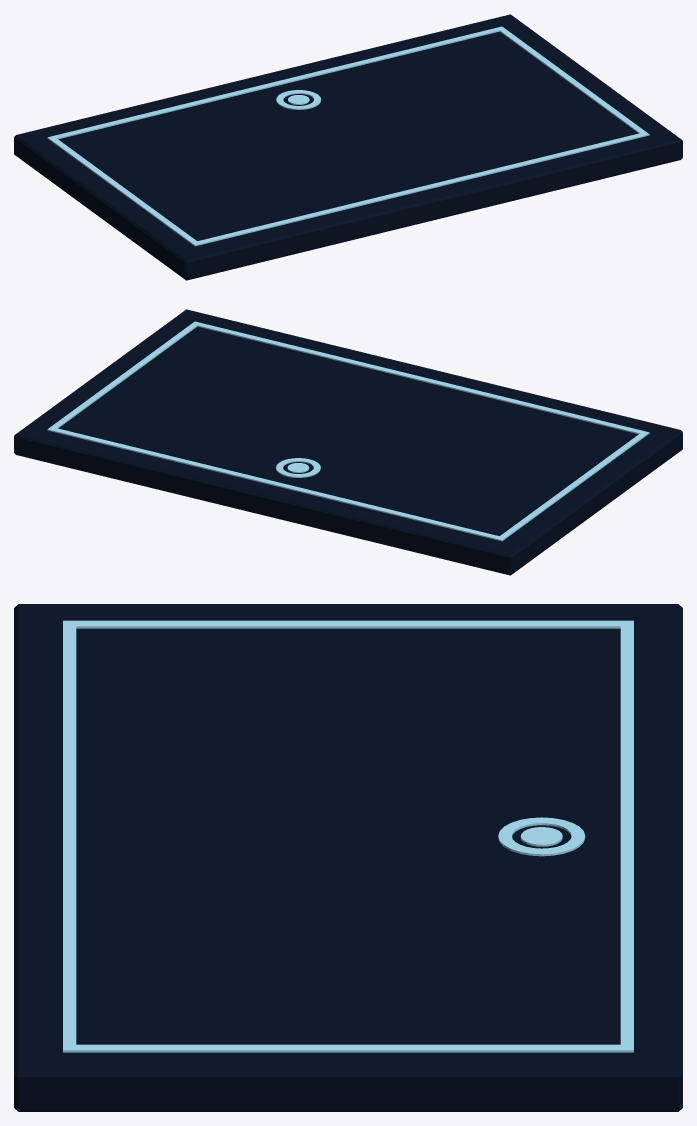
File: W_O_Playground_Finish_B_L0.fbx
3 views of the same model, one above another, from view 1: azimuth 30°, elevation 25°; view 2: azimuth 150°, elevation 25°; view 3: azimuth 270°, elevation 25° (orthographic). The views are drawn at different scales.
Parts seen in each view (by area): view 1: W_O_Playground_Finish_B_L0; view 2: W_O_Playground_Finish_B_L0; view 3: W_O_Playground_Finish_B_L0.
Boxes of the visible parts, x1,y1,x2,y2 form: W_O_Playground_Finish_B_L0: (14, 14, 682, 280); W_O_Playground_Finish_B_L0: (14, 309, 682, 575); W_O_Playground_Finish_B_L0: (14, 604, 682, 1111).
Bounding box in the file's own units: 5 × 0.2118 × 3.
